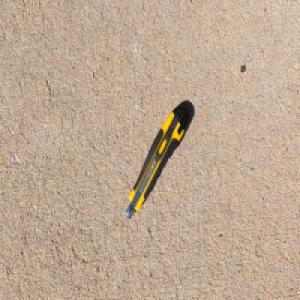Cutter: (125, 103, 190, 220)
